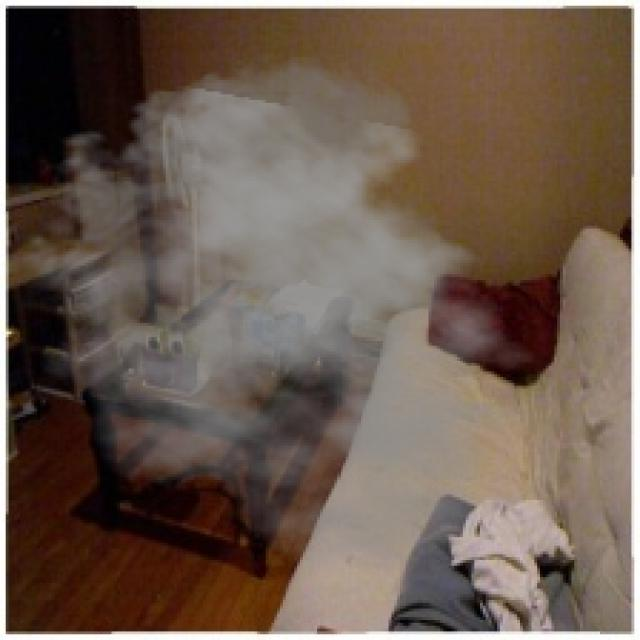smoke: (0, 49, 557, 574)
